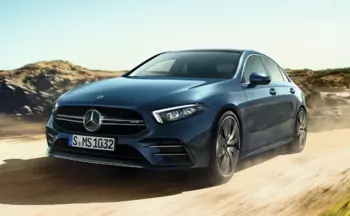car: (46, 49, 307, 187)
